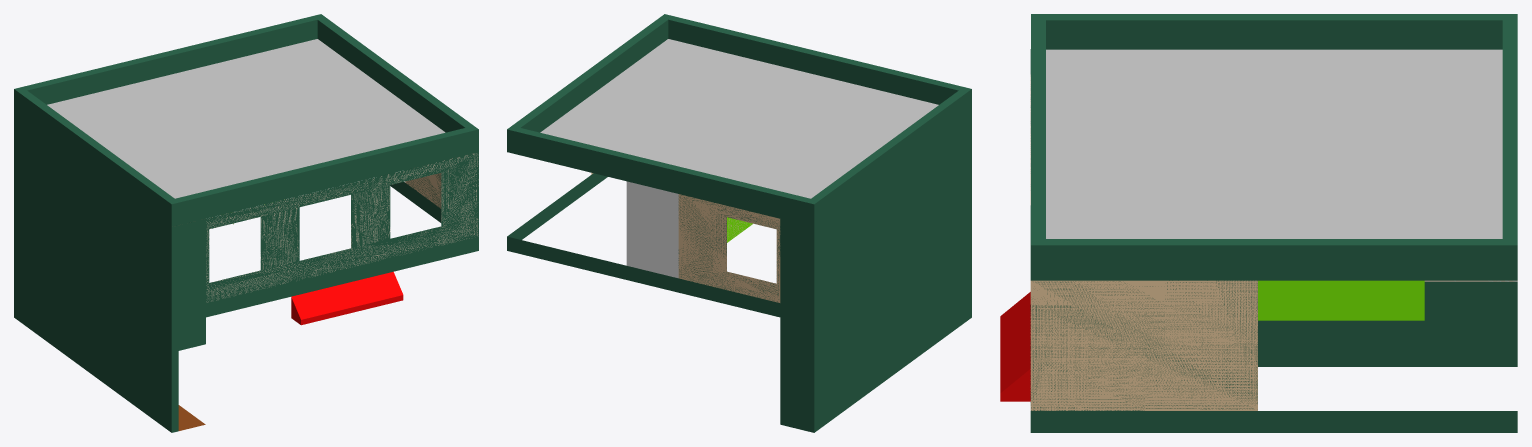
3 renders of one model, left to right at view 1: azimuth 30°, elevation 25°; view 2: azimuth 150°, elevation 25°; view 3: azimuth 270°, elevation 25°, orthographic. The views are drawn at different scales.
Visible parts, largest first — view 1: SketchUp.005_ID52; view 2: SketchUp.005_ID52; view 3: SketchUp.005_ID52.
Part boxes in pixels (bbox=[...]): SketchUp.005_ID52: bbox=[14, 14, 478, 432]; SketchUp.005_ID52: bbox=[507, 14, 971, 432]; SketchUp.005_ID52: bbox=[1000, 14, 1517, 432].
Bounding box in the file's own units: 9 × 6.4 × 8.5.
